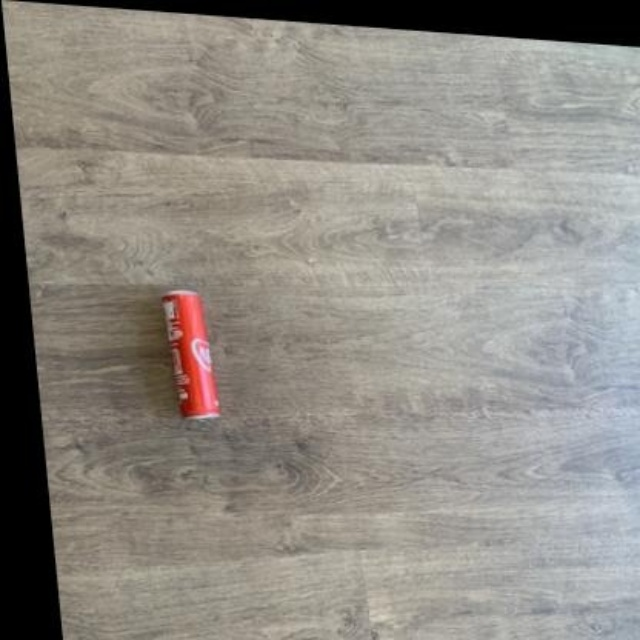trash: (162, 291, 218, 417)
